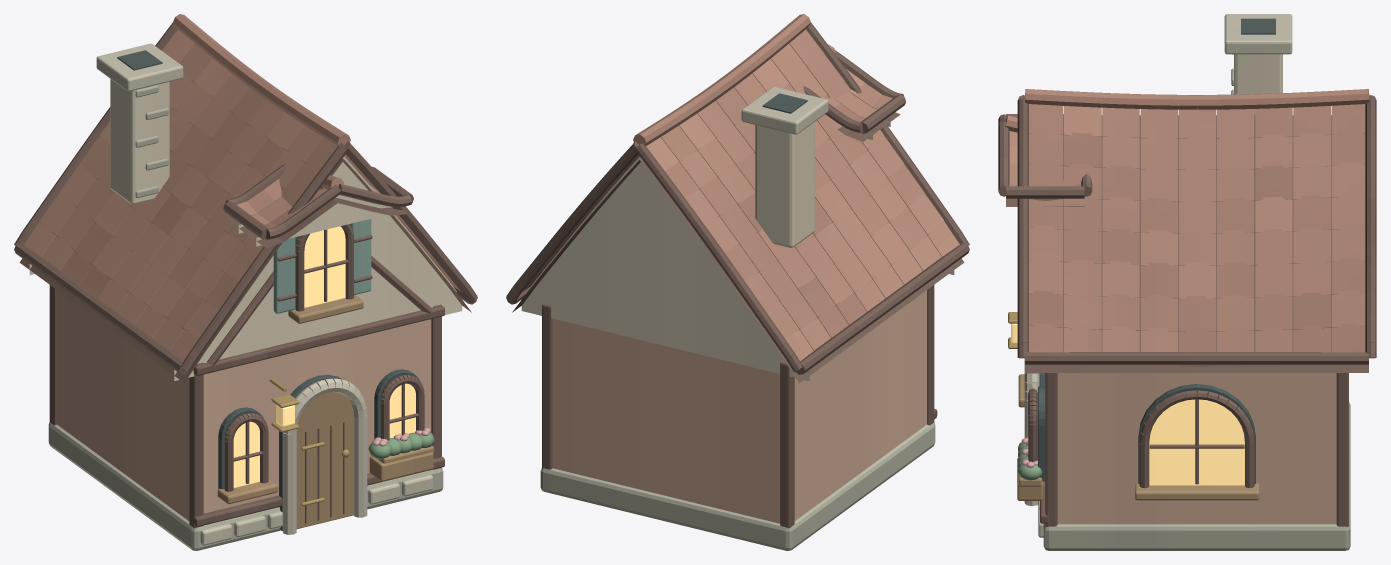
Rendered from village-neighbor1.glb.
The picture shows the model from 3 angles, left to right: view 1: azimuth 30°, elevation 25°; view 2: azimuth 150°, elevation 25°; view 3: azimuth 270°, elevation 25°; orthographic projection. The views are drawn at different scales.
Parts seen in each view (by area): view 1: Forest hamlet; view 2: Forest hamlet; view 3: Forest hamlet.
Part boxes in pixels (left/top/right/bottom): Forest hamlet: left=14, top=14, right=477, bottom=550; Forest hamlet: left=506, top=14, right=969, bottom=550; Forest hamlet: left=998, top=14, right=1376, bottom=550.
Size of the model in its own units: 4.1 by 5.33 by 4.31.
16 materials, 16 textured.
